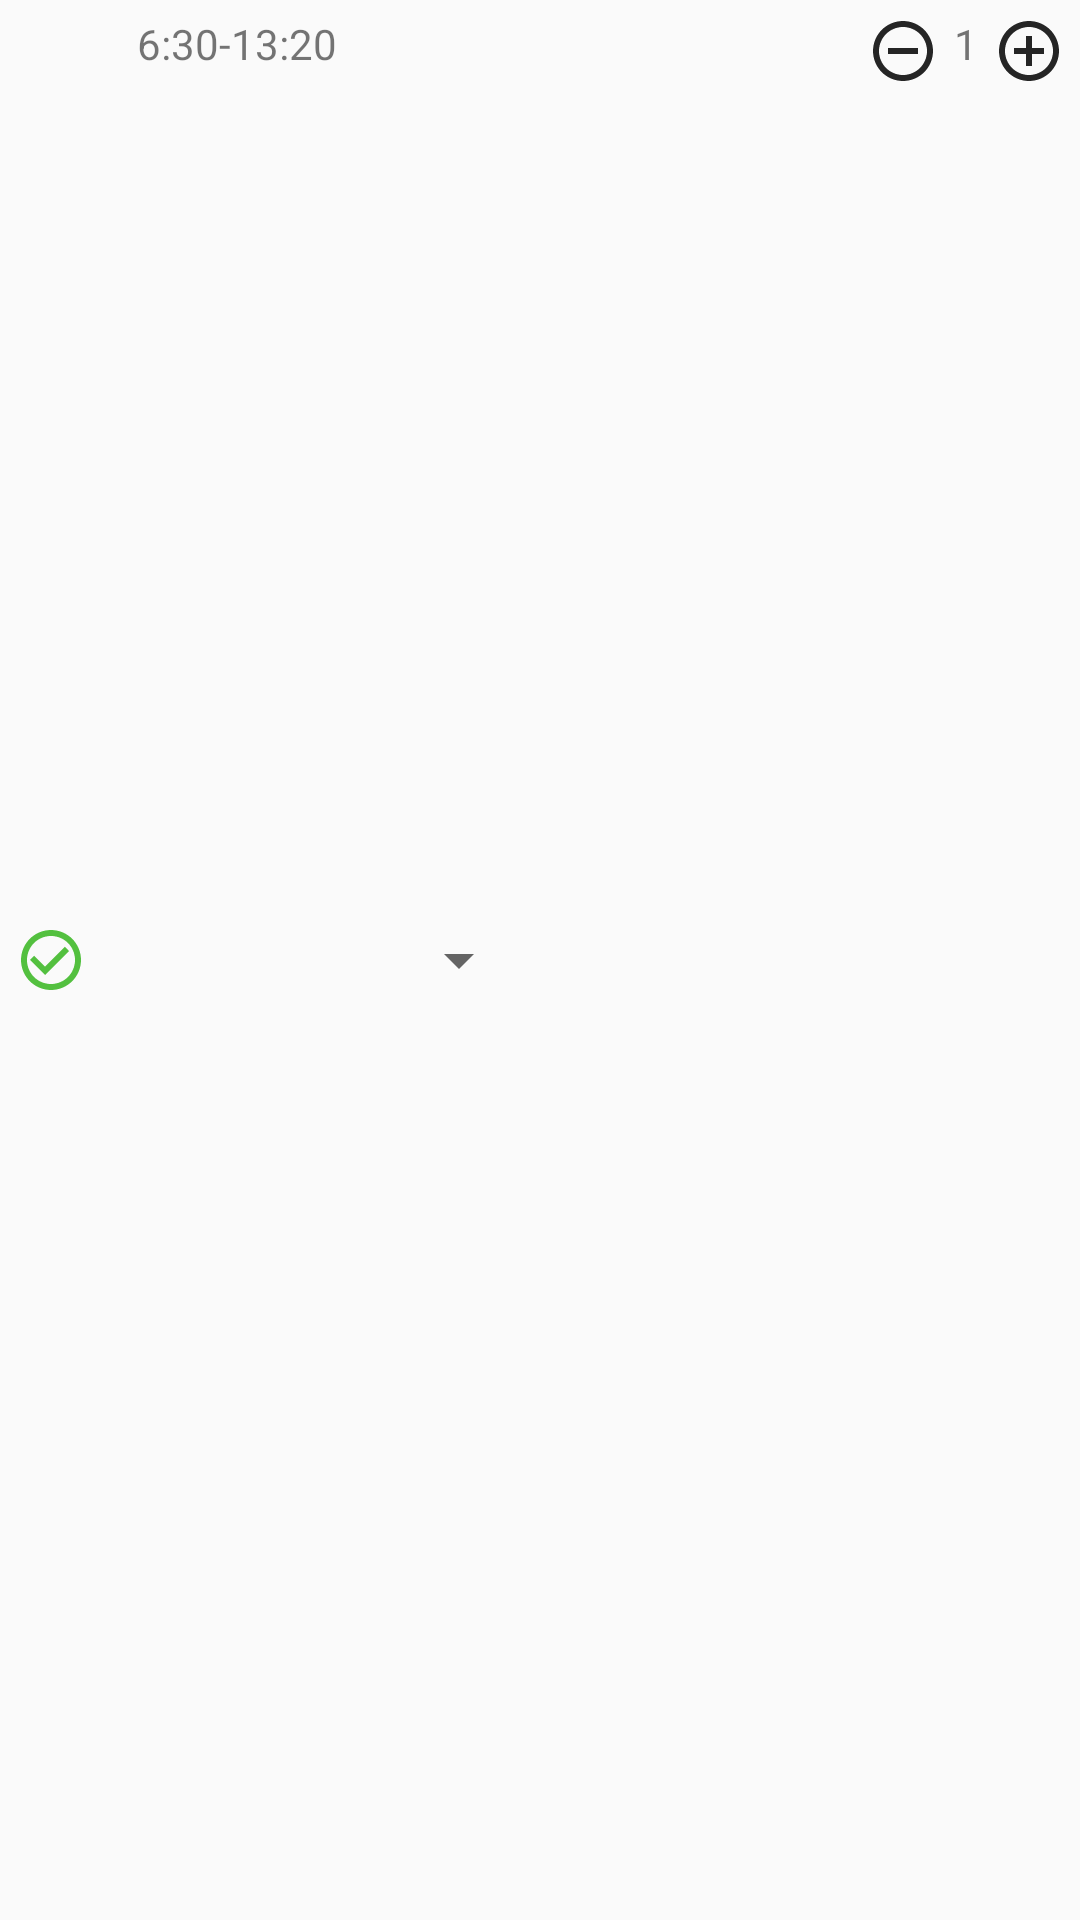

Where icons sit on this 1080*1920 app screen, as [left=x1, top=y1, right=x2, bottom=y2]:
add circle: [left=999, top=21, right=1059, bottom=81]
check: [left=21, top=930, right=81, bottom=990]
remove circle: [left=873, top=21, right=933, bottom=81]
